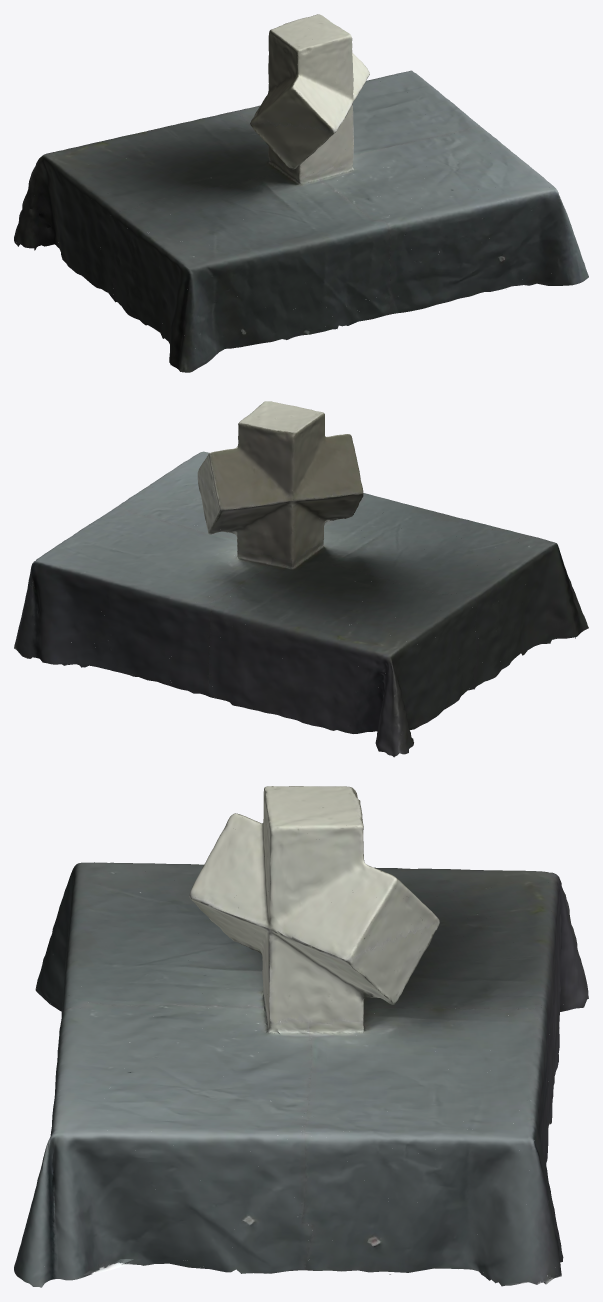
File: 静物_几何体_十字贯穿体01_opt.glb
3 views of the same model, one above another, from view 1: azimuth 30°, elevation 25°; view 2: azimuth 150°, elevation 25°; view 3: azimuth 270°, elevation 25° (orthographic). The views are drawn at different scales.
Visible parts, largest first — view 1: defaultMat, defaultMat_1; view 2: defaultMat, defaultMat_1; view 3: defaultMat, defaultMat_1.
Boxes of the visible parts, x1=… form: defaultMat: x1=14, y1=14, x2=588, y2=372; defaultMat_1: x1=16, y1=17, x2=578, y2=372; defaultMat: x1=14, y1=401, x2=588, y2=757; defaultMat_1: x1=14, y1=402, x2=576, y2=752; defaultMat: x1=14, y1=786, x2=588, y2=1287; defaultMat_1: x1=23, y1=787, x2=574, y2=1284.
Size of the model in its own units: 0.3767 by 0.1979 by 0.3.
Materials: 1 (1 with a texture image).
